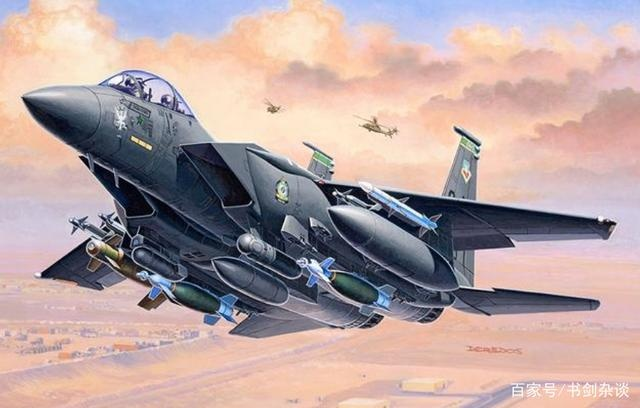airplane: (13, 68, 605, 345), (352, 113, 405, 139), (260, 98, 292, 116)
